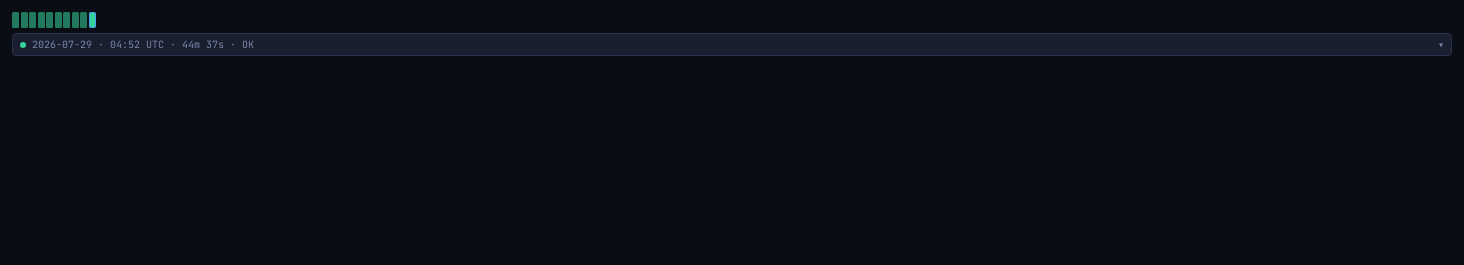
it: RunPicker › closes the dropdown on Escape
Click the button with aria-label "Choose run": (143, 44) 12,33 -> 1452,56
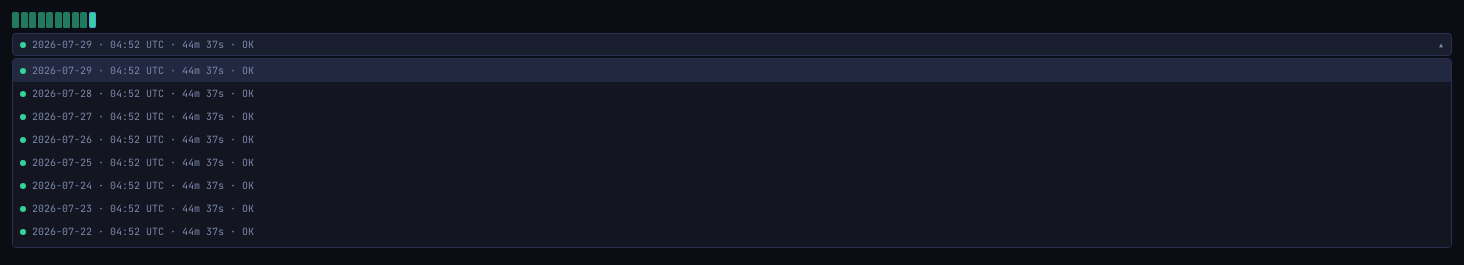
Press Escape
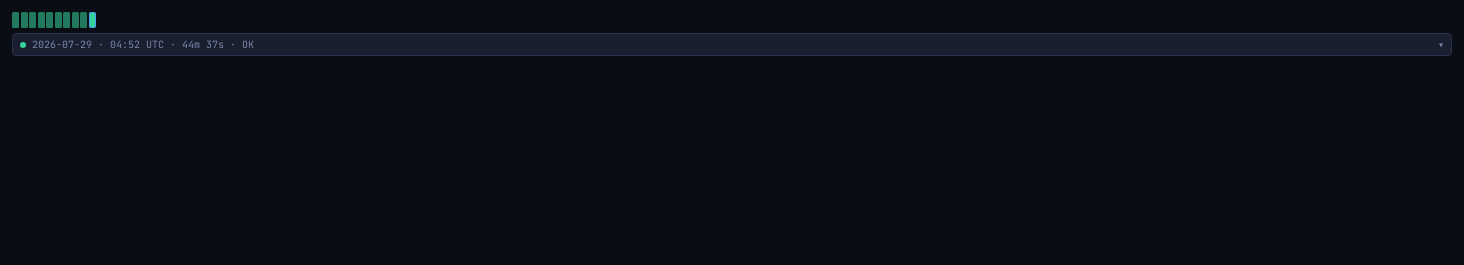
Now the menu is gone
